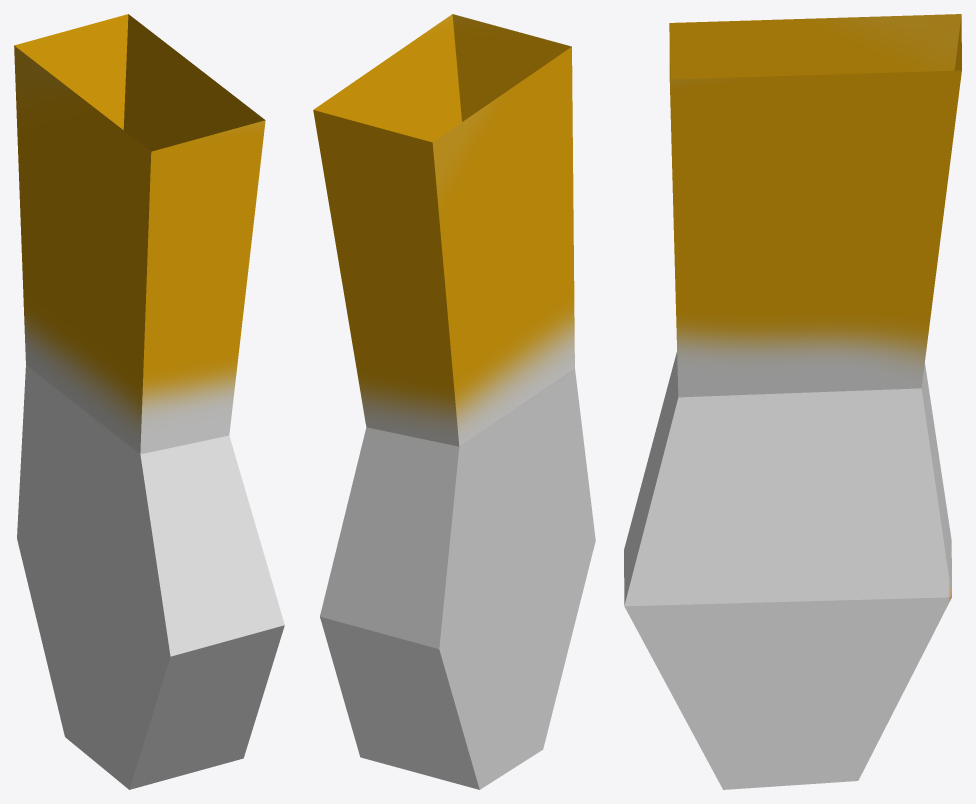
The model's file is Cat_Paw.fbx.
3 views of the same model, side by side, from view 1: azimuth 30°, elevation 25°; view 2: azimuth 150°, elevation 25°; view 3: azimuth 270°, elevation 25° (orthographic). The views are drawn at different scales.
Visible parts, largest first — view 1: Cat Paw NO FINGERS; view 2: Cat Paw NO FINGERS; view 3: Cat Paw NO FINGERS.
Boxes of the visible parts, bbox=[...] form: Cat Paw NO FINGERS: bbox=[14, 14, 284, 789]; Cat Paw NO FINGERS: bbox=[313, 14, 595, 789]; Cat Paw NO FINGERS: bbox=[624, 14, 961, 789].
Size of the model in its own units: 22.39 by 114 by 48.25.
Materials: 1 (1 with a texture image).
